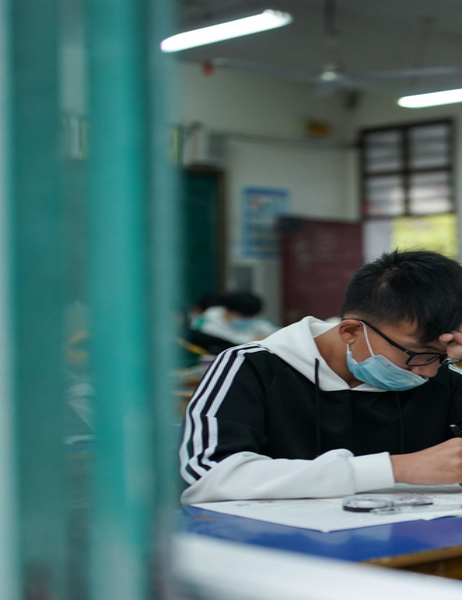mask_weared_incorrect: (348, 254, 462, 391)
